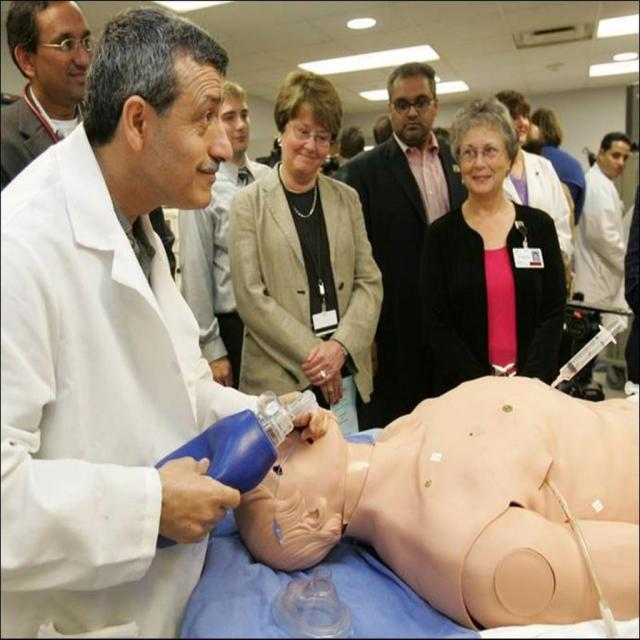nomask: (145, 58, 233, 208), (34, 1, 94, 98), (460, 123, 508, 194), (282, 104, 330, 172), (390, 75, 434, 142), (217, 97, 249, 151), (601, 140, 630, 177), (504, 105, 528, 144)
